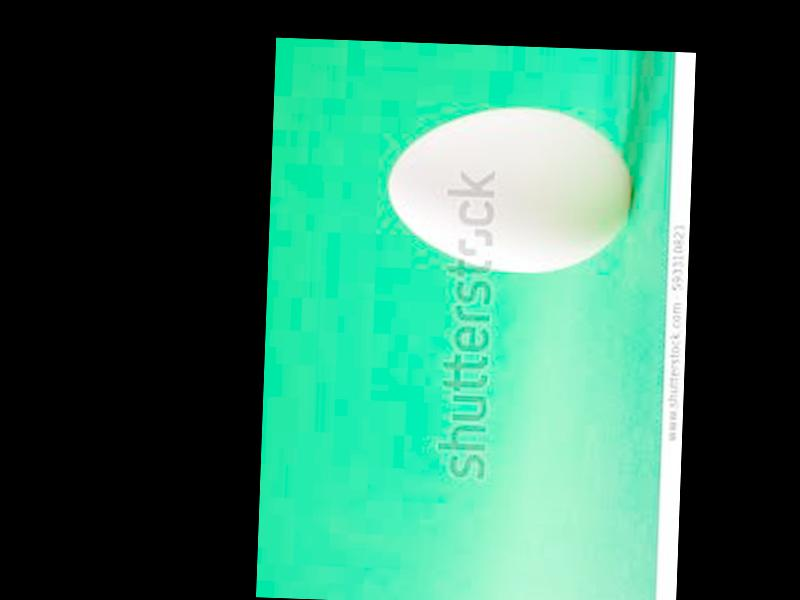Eggs: (386, 102, 638, 275)
